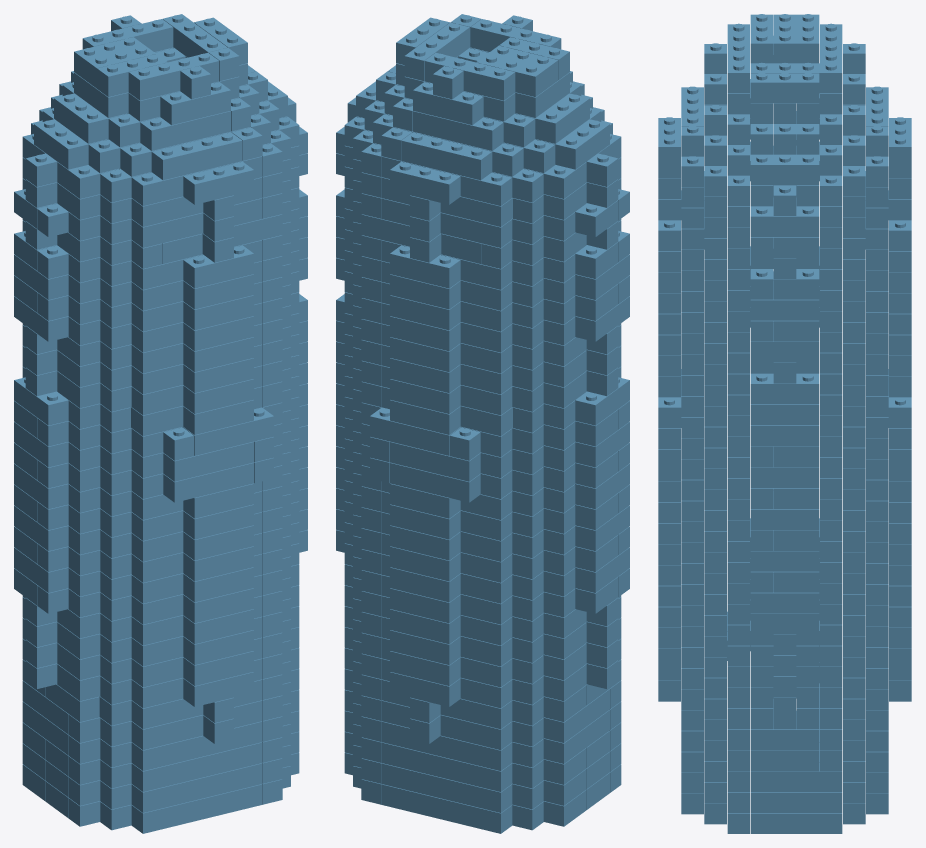
Rendered from 186_mug_L1.glb.
The picture shows the model from 3 angles, left to right: view 1: azimuth 30°, elevation 25°; view 2: azimuth 150°, elevation 25°; view 3: azimuth 270°, elevation 25°; orthographic projection.
Bounding box in the file's own units: 12.98 × 35.13 × 10.98.
